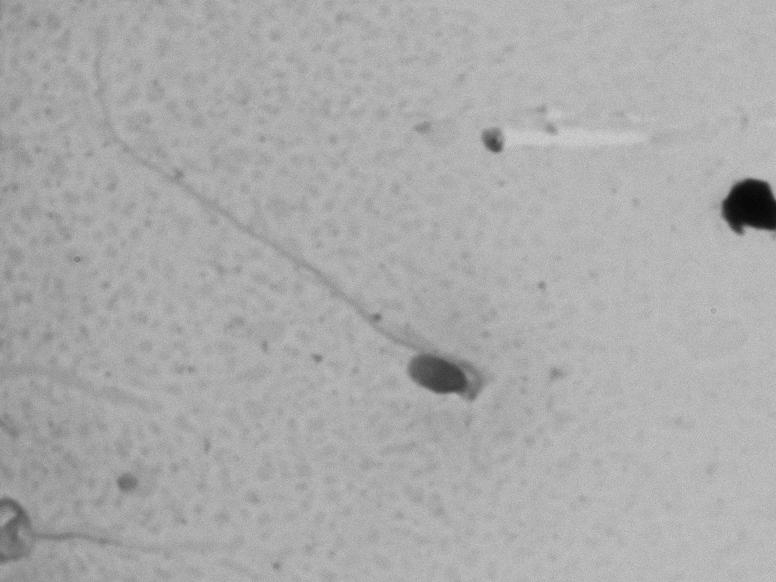Abnormal: (110, 89, 499, 433)
